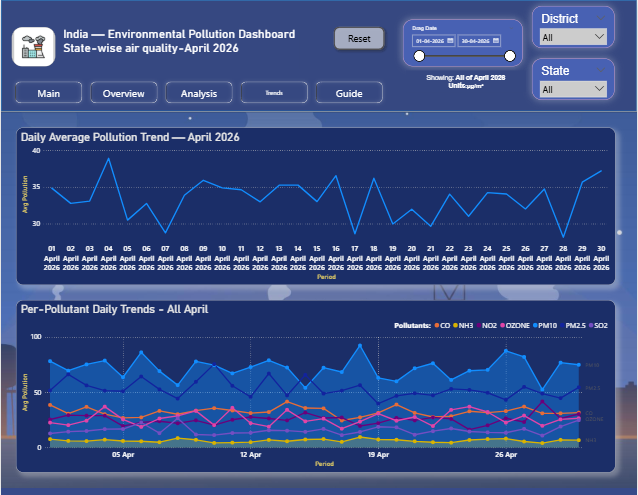

The page's visual inventory and layout, read from the dashboard file:
{"tool":"powerbi","page":{"name":"Trends","canvas":[1415,1100],"ordinal":3},"visuals":[{"type":"shape","box":[0,0,1413.3,248.3],"z":0},{"type":"textbox","title":"India — Environmental Pollution Dashboard  State-wise air quality-April 2026","box":[134,60,530,94],"z":1000},{"type":"lineChart","title":"Daily Average Pollution Trend — April 2026","fields":{"Y":["Sheet1.Avg Pollution"],"Category":["Sheet1.Period"]},"box":[31.7,283.3,1331.7,350],"z":2000},{"type":"lineChart","title":"Per-Pollutant Daily Trends - All April","fields":{"Category":["Sheet1.Period.Variation.Date Hierarchy.Day"],"Y":["Sheet1.Avg Pollution"],"Series":["Sheet1.Pollutant"]},"box":[33.3,665,1331.7,383.3],"z":3000},{"type":"pageNavigator","box":[24,174,834,64],"z":4000},{"type":"slicer","fields":{"Values":["Sheet1.Period"]},"box":[893.8,43.8,266.2,103.8],"z":5000},{"type":"slicer","fields":{"Values":["Sheet1.District"]},"box":[1180,13.3,183.3,93.3],"z":6000},{"type":"slicer","fields":{"Values":["Sheet1.State"]},"box":[1180,128.3,183.3,91.7],"z":7000},{"type":"image","box":[24,60,98,88],"z":8000},{"type":"textbox","box":[898.8,157.5,266.2,48.8],"z":9000},{"type":"actionButton","box":[730,50,131.7,70],"z":9001}]}

Visuals, with their boxes in screenshot pixels (x1, y1, x2, y2), scaled from the page's 1415x1100 canvas onto the 638x495 screenshot:
shape: select_region(0, 0, 637, 112)
"India — Environmental Pollution Dashboard  State-wise air quality-April 2026" textbox: select_region(60, 27, 299, 69)
"Daily Average Pollution Trend — April 2026" lineChart: select_region(14, 127, 615, 285)
"Per-Pollutant Daily Trends - All April" lineChart: select_region(15, 299, 615, 472)
pageNavigator: select_region(11, 78, 387, 107)
slicer - Sheet1.Period: select_region(403, 20, 523, 66)
slicer - Sheet1.District: select_region(532, 6, 615, 48)
slicer - Sheet1.State: select_region(532, 58, 615, 99)
image: select_region(11, 27, 55, 67)
textbox: select_region(405, 71, 525, 93)
actionButton: select_region(329, 22, 389, 54)
